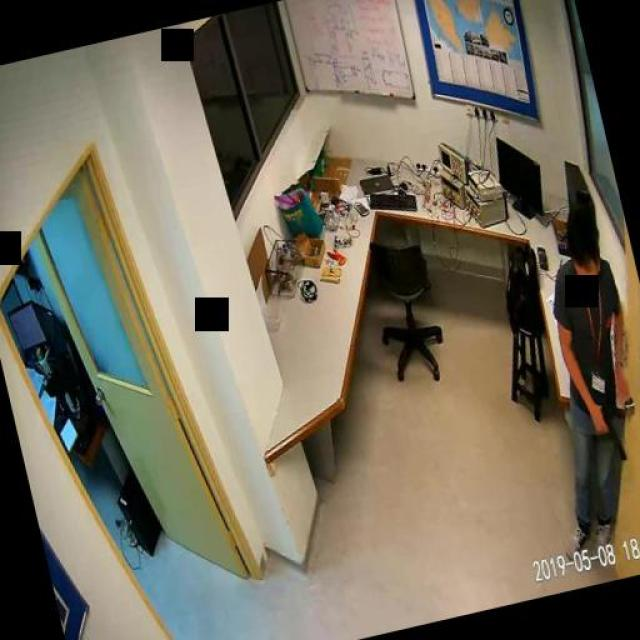gun: (586, 402, 626, 468)
